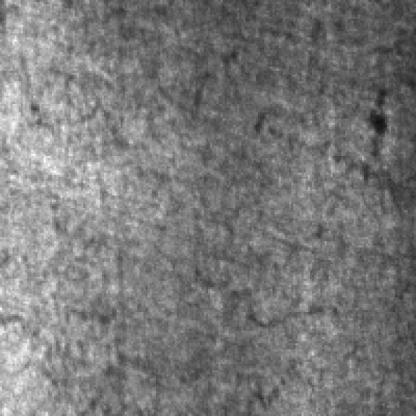crazing: (245, 297, 364, 410)
